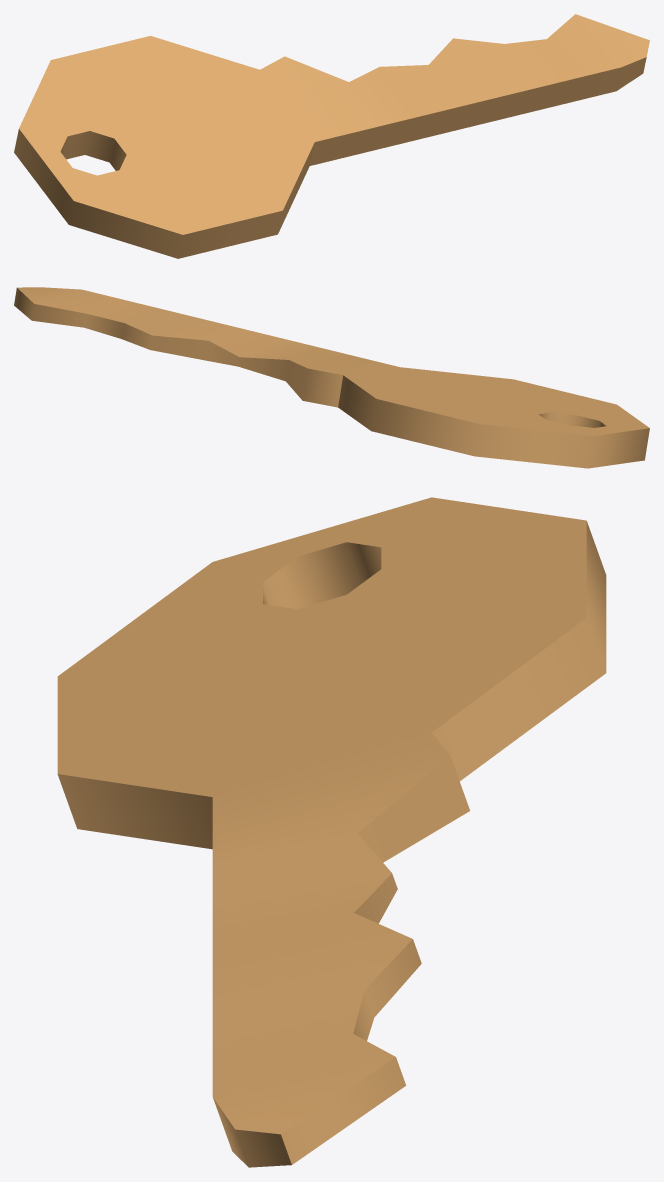
Rendered from SM_PadLockKey_Head.fbx.
3 renders of one model, top to bottom at view 1: azimuth 30°, elevation 25°; view 2: azimuth 150°, elevation 25°; view 3: azimuth 270°, elevation 25°, orthographic. The views are drawn at different scales.
Visible parts, largest first — view 1: SM_PadLockKey_Head; view 2: SM_PadLockKey_Head; view 3: SM_PadLockKey_Head.
Boxes of the visible parts, x1,y1,x2,y2 form: SM_PadLockKey_Head: (14,14,649,258); SM_PadLockKey_Head: (14,287,649,468); SM_PadLockKey_Head: (57,497,606,1167).
Bounding box in the file's own units: 18.2 × 3.09 × 7.29.
